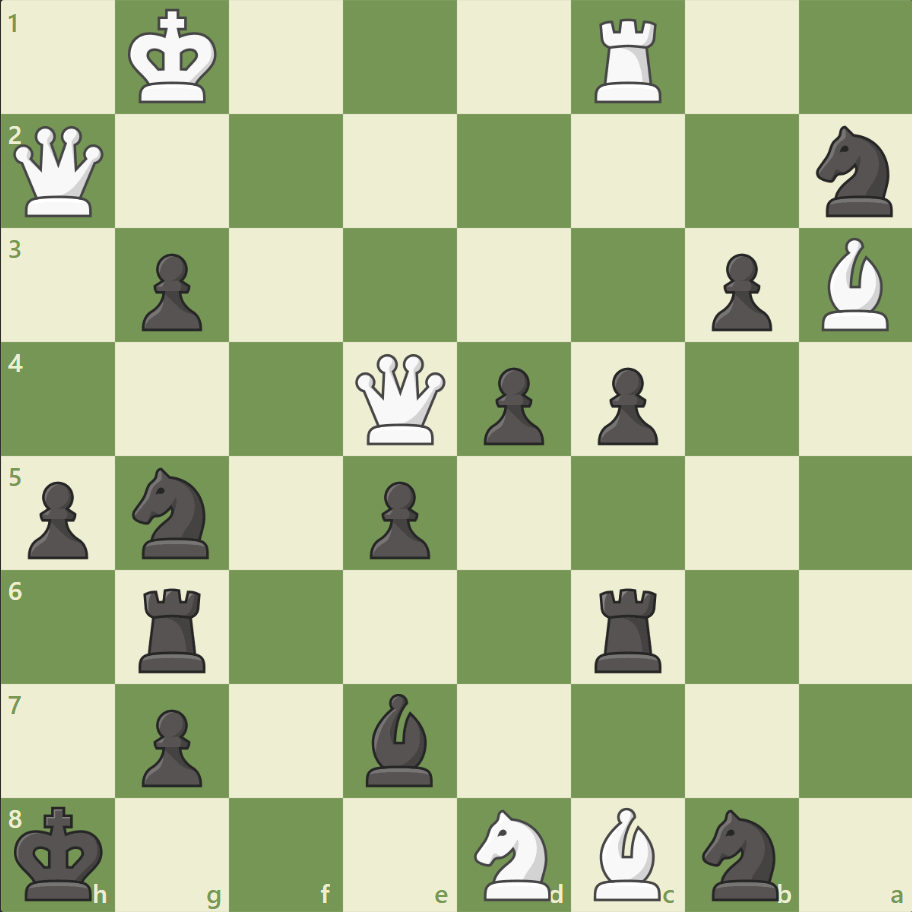B: (585, 801, 669, 904), (812, 233, 896, 336)
K: (124, 4, 224, 112)
N: (465, 802, 562, 904)
Q: (351, 349, 450, 449), (10, 122, 109, 222)
R: (587, 12, 670, 109)
b: (358, 687, 442, 790)
k: (11, 798, 111, 906)
n: (124, 461, 222, 564), (692, 802, 789, 904), (806, 121, 903, 223)
p: (133, 700, 208, 791), (20, 473, 95, 564), (474, 359, 549, 450), (701, 246, 776, 337), (133, 246, 208, 337), (361, 473, 435, 564), (588, 359, 662, 450)
r: (587, 579, 670, 676), (133, 579, 215, 676)
